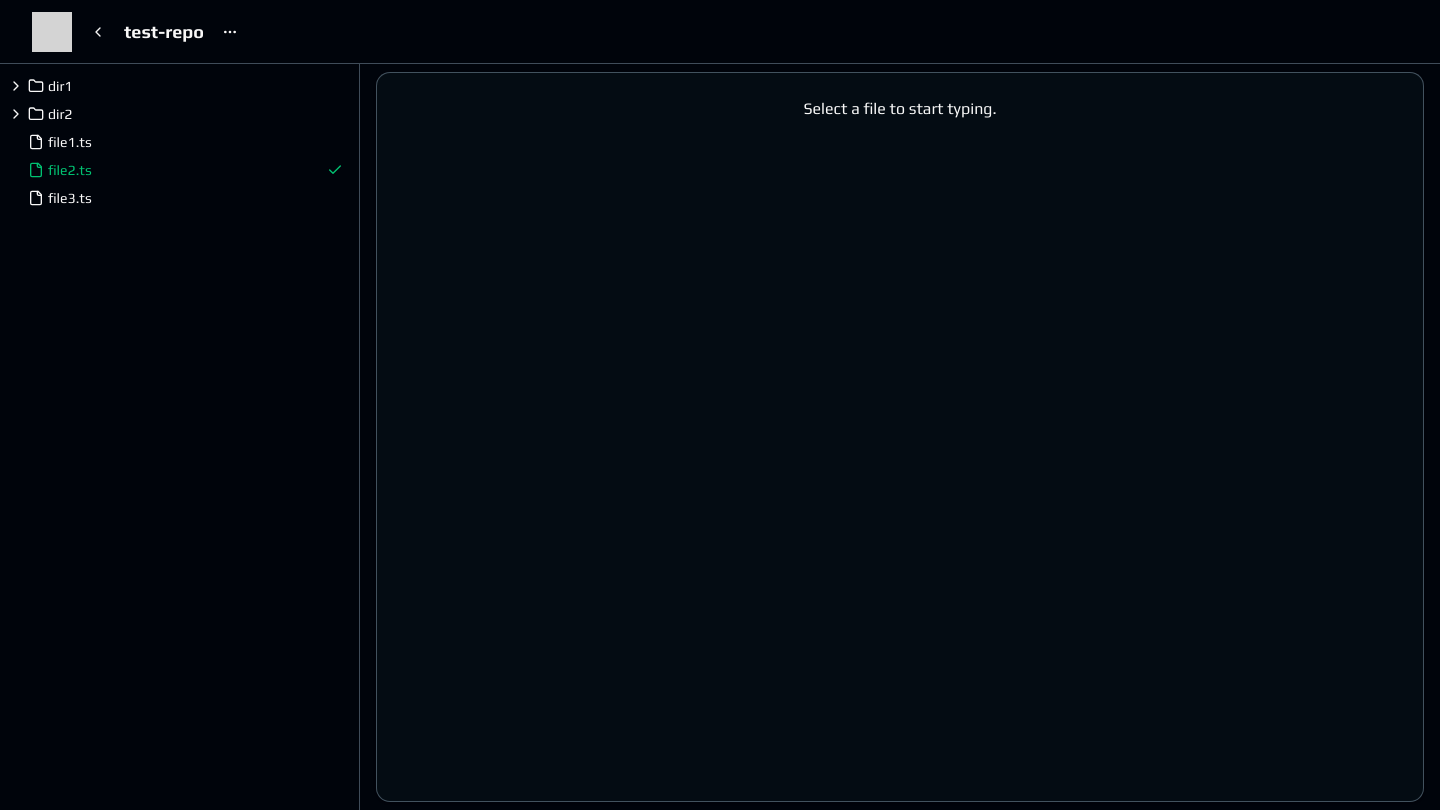
RepositoryDetailPage › when file is clicked › renders full path, play button and file content
Step 1. Click the button "dir1" → [16, 86], box [8,72,351,100]
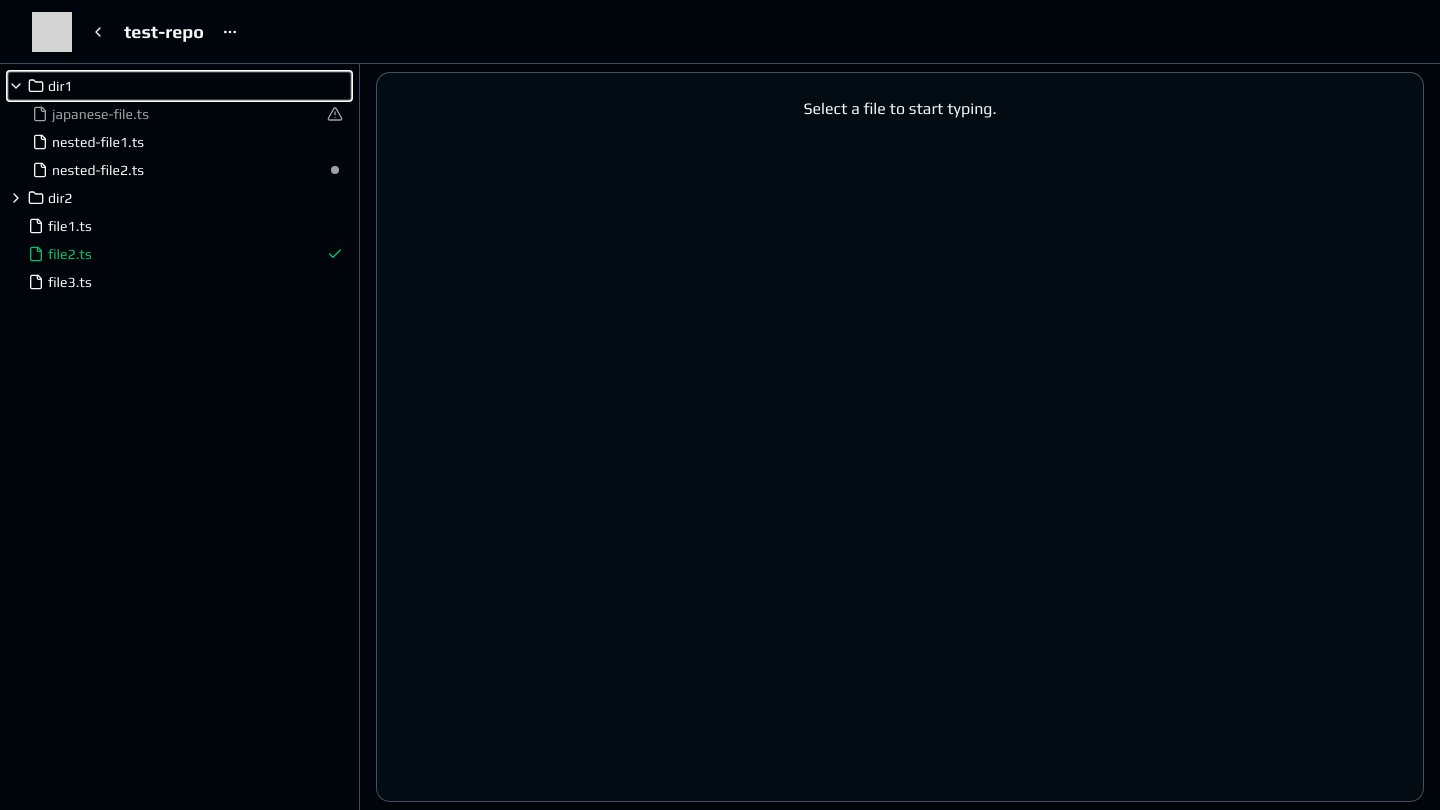
Step 2. Click the button "nested-file1.ts" → [98, 142], box [12,128,351,156]
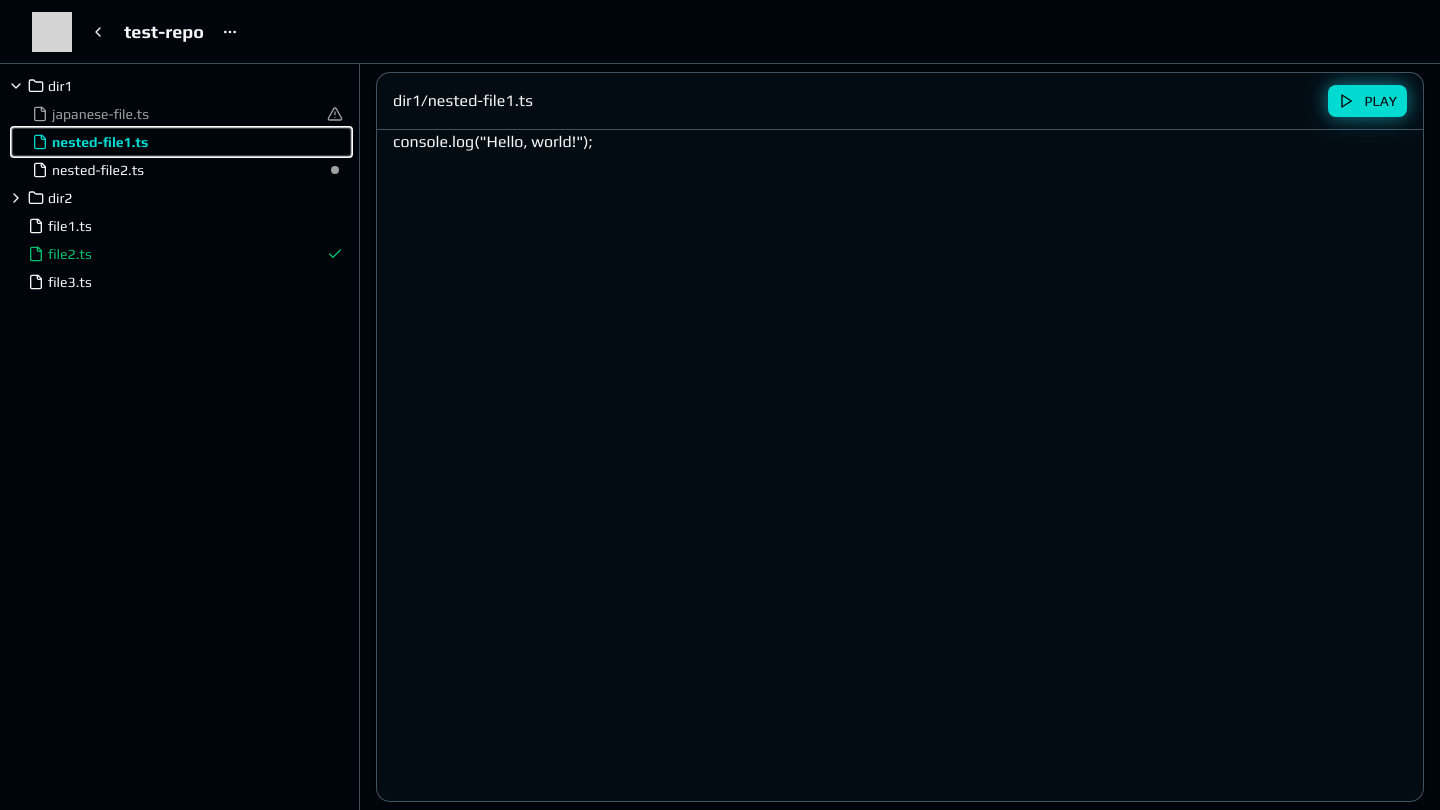
Expected: the heading "dir1/nested-file1.ts" is shown, [393,89,533,113]
Expected: the button "PLAY" is shown, [1328,85,1407,117]
Expected: the text "console.log(\"Hello, world!\");" is shown, [393,132,593,151]
